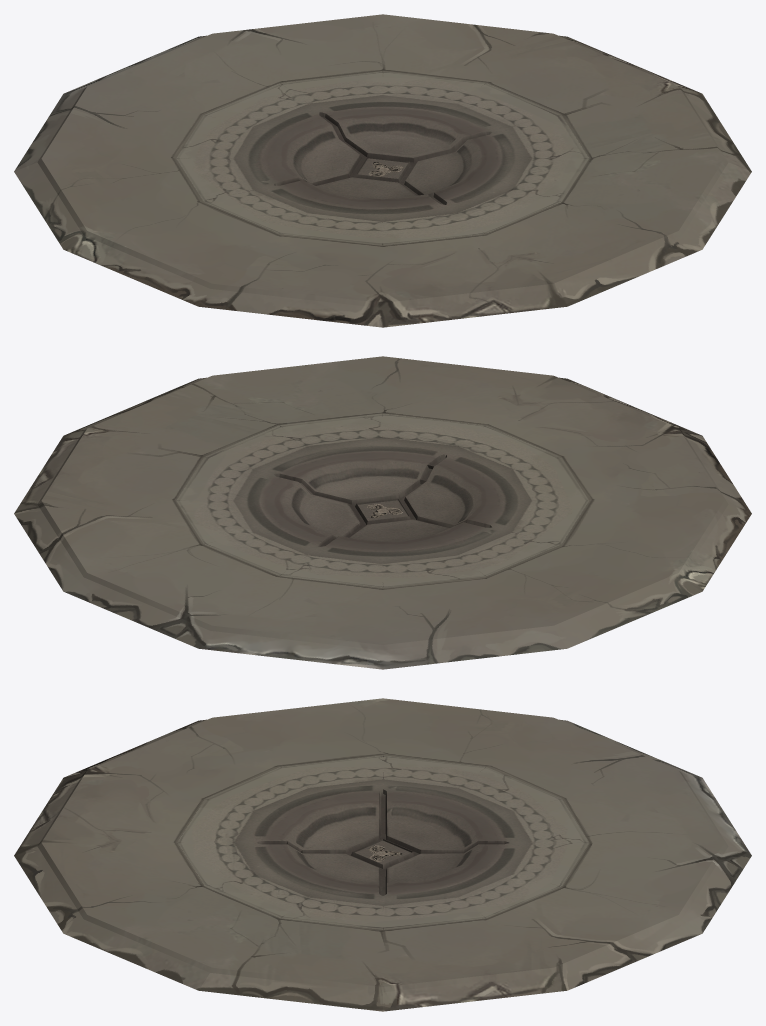
Rendered from reba_tool.FBX.
3 renders of one model, top to bottom at view 1: azimuth 30°, elevation 25°; view 2: azimuth 150°, elevation 25°; view 3: azimuth 270°, elevation 25°, orthographic.
Parts seen in each view (by area): view 1: Cylinder001; view 2: Cylinder001; view 3: Cylinder001.
Boxes of the visible parts, x1=… form: Cylinder001: x1=14, y1=14, x2=751, y2=327; Cylinder001: x1=14, y1=356, x2=751, y2=669; Cylinder001: x1=14, y1=698, x2=751, y2=1011.
Size of the model in its own units: 111 by 2.17 by 111.
